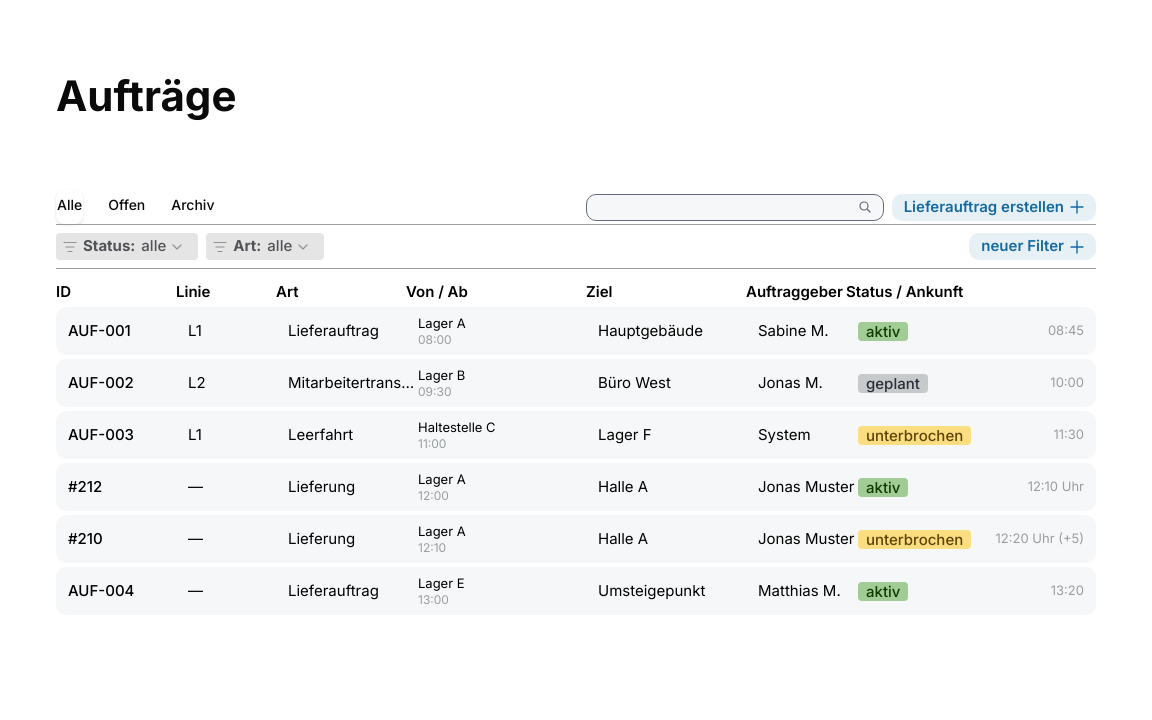
Test: SC-04 — AuftraegePage — CR-01: Lieferauftrag erstellen Dialog › neuer Auftrag erscheint nach Erstellen in der Liste
Click the button "Lieferauftrag erstellen": (994, 207) 892,194 -> 1096,220
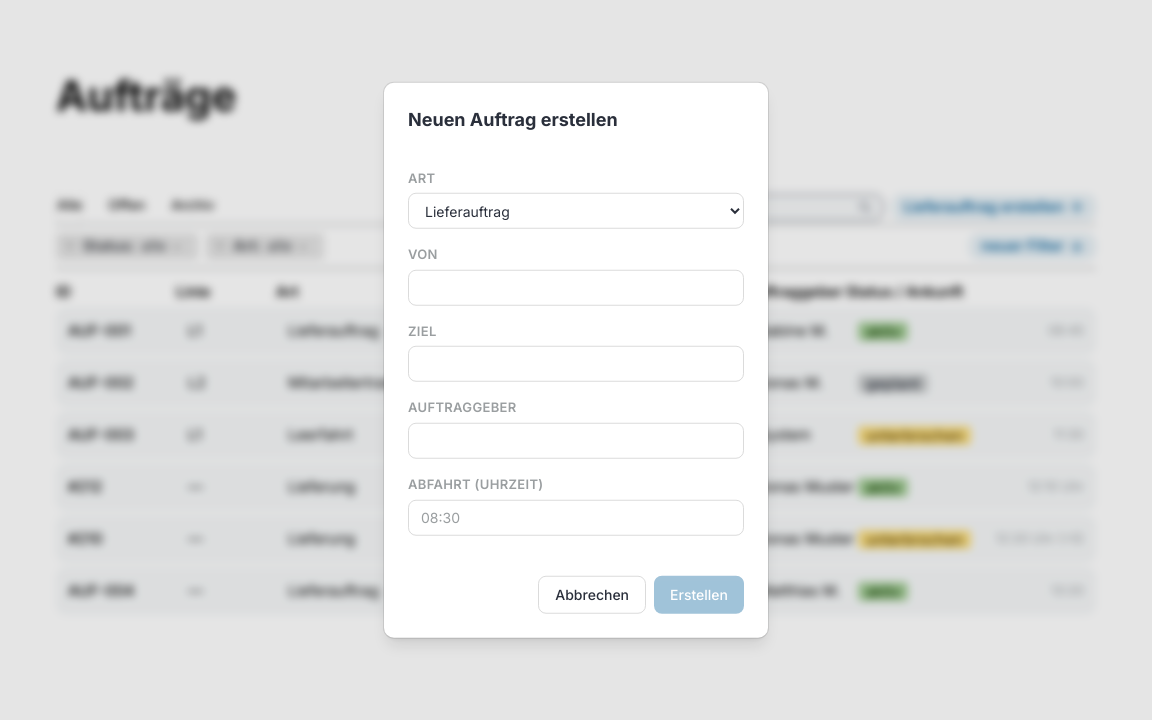
In the field labelled "Von": (576, 288) 408,270 -> 744,306, type "Lager Z"
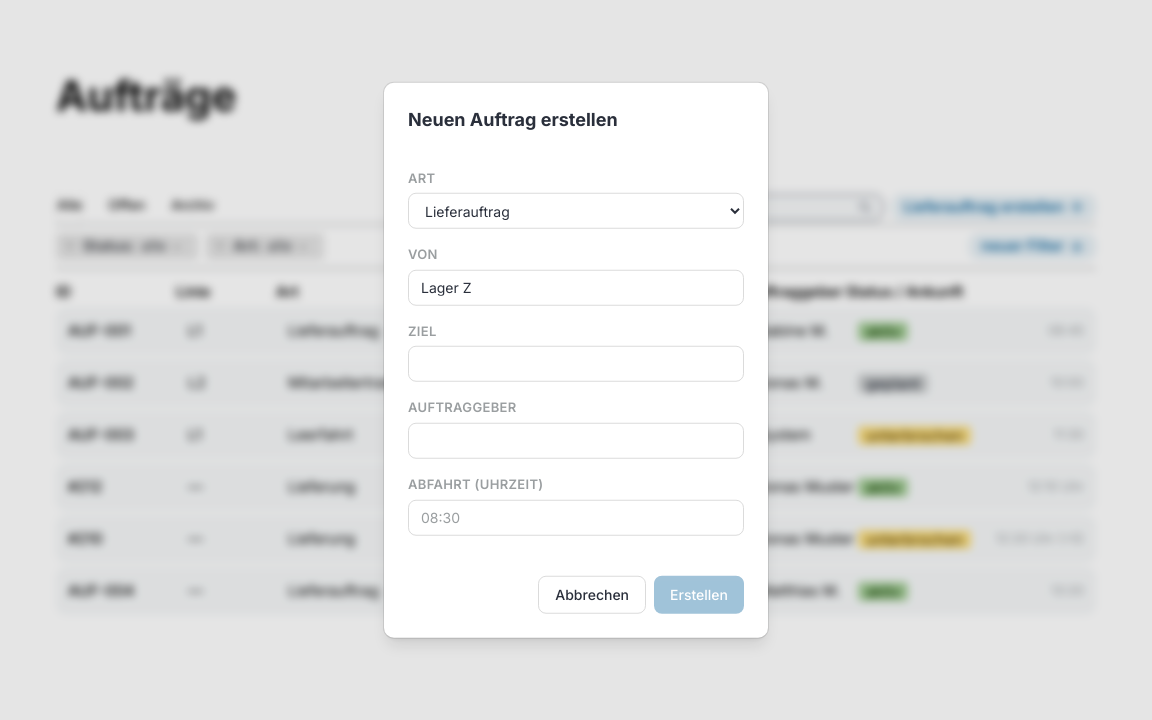
In the field labelled "Ziel": (576, 364) 408,346 -> 744,382, type "Tor 9"
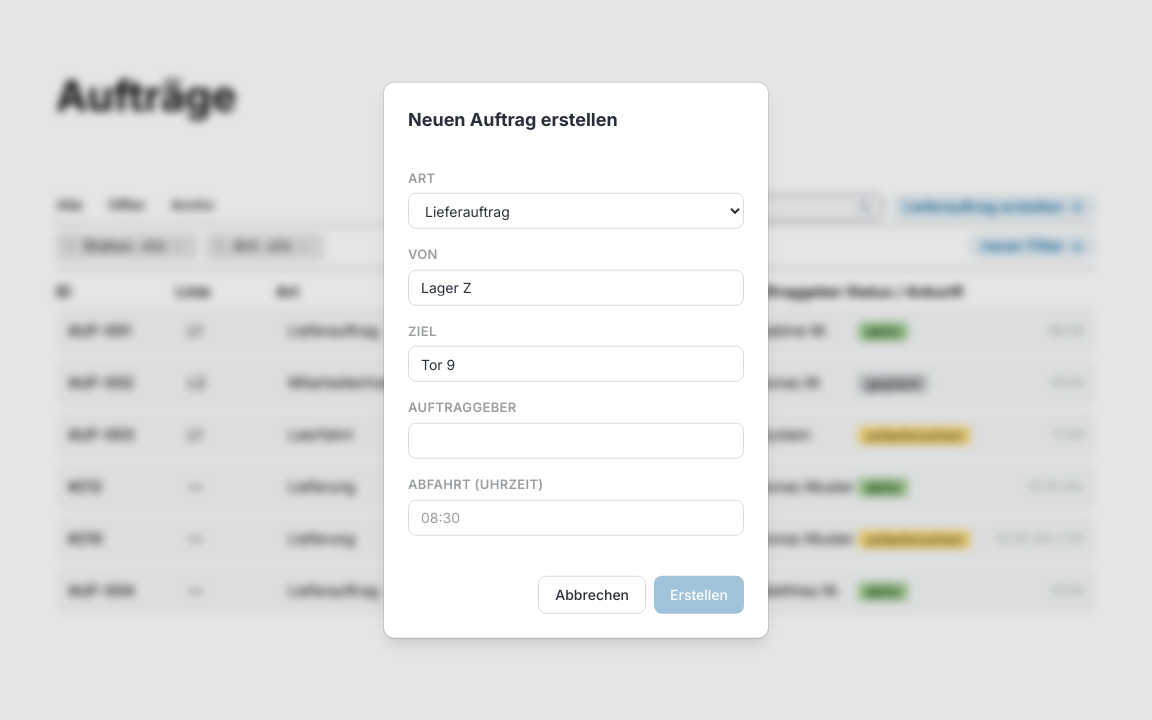
In the field labelled "Auftraggeber": (576, 441) 408,423 -> 744,459, type "Test User"
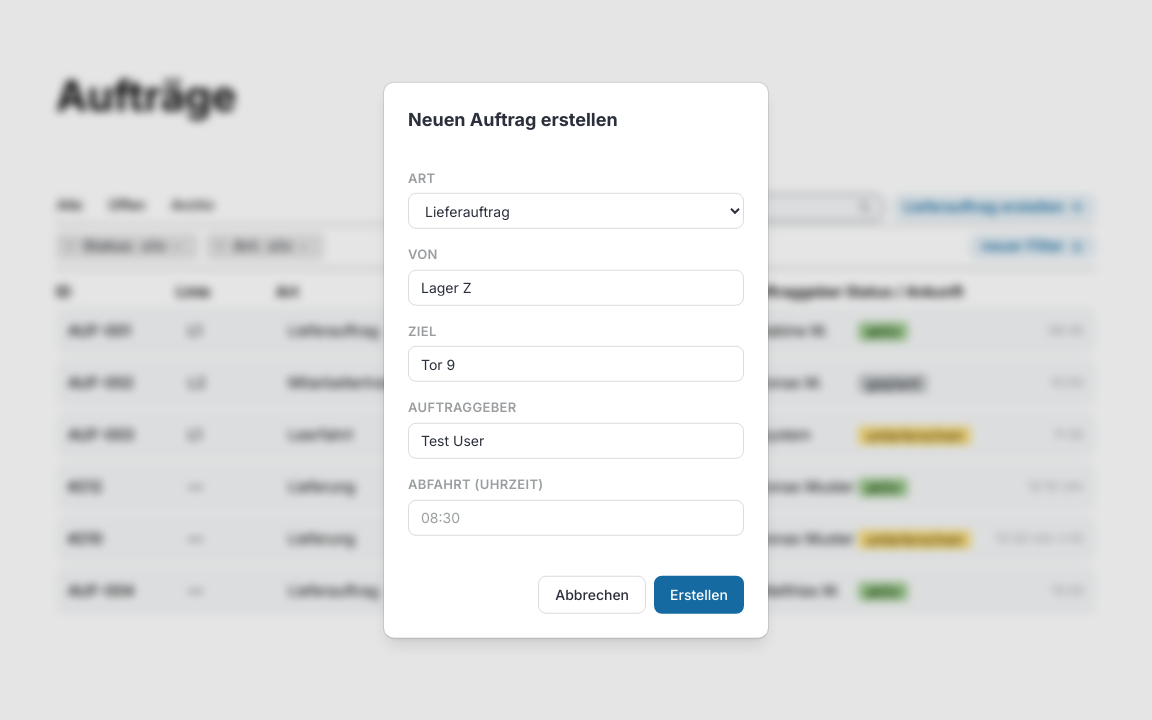
Click the button "Erstellen": (699, 594) 654,575 -> 744,613
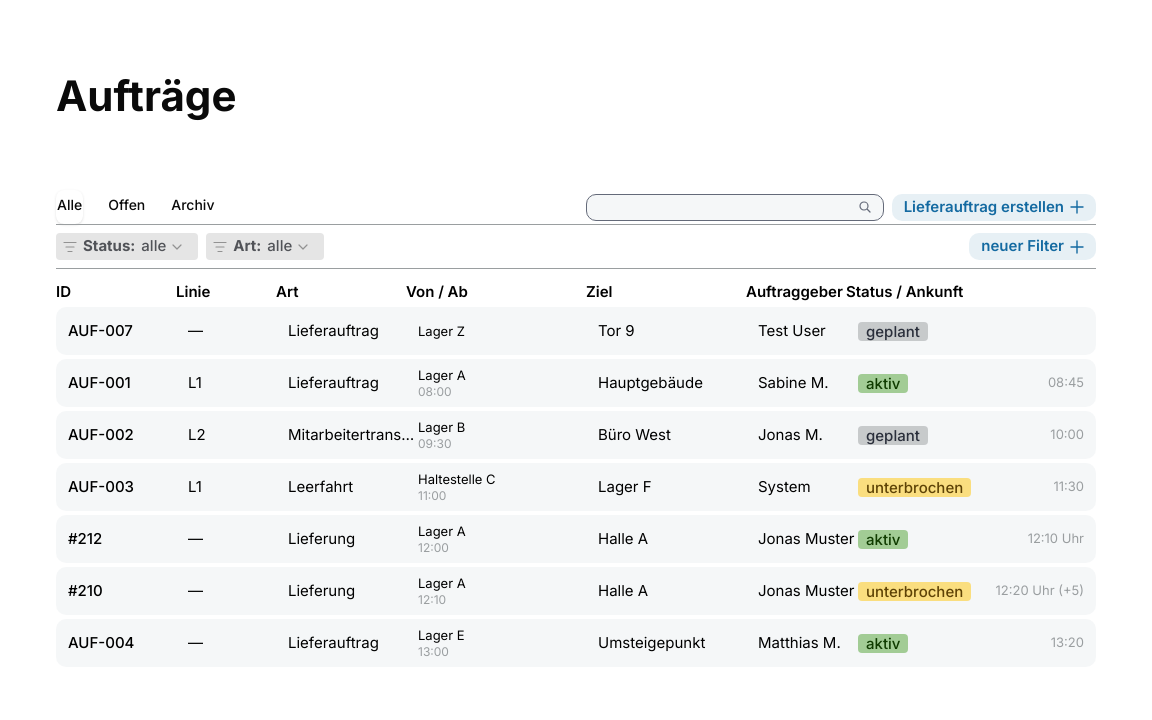
Now the text "Tor 9" is shown, box 598,321 -> 635,340
